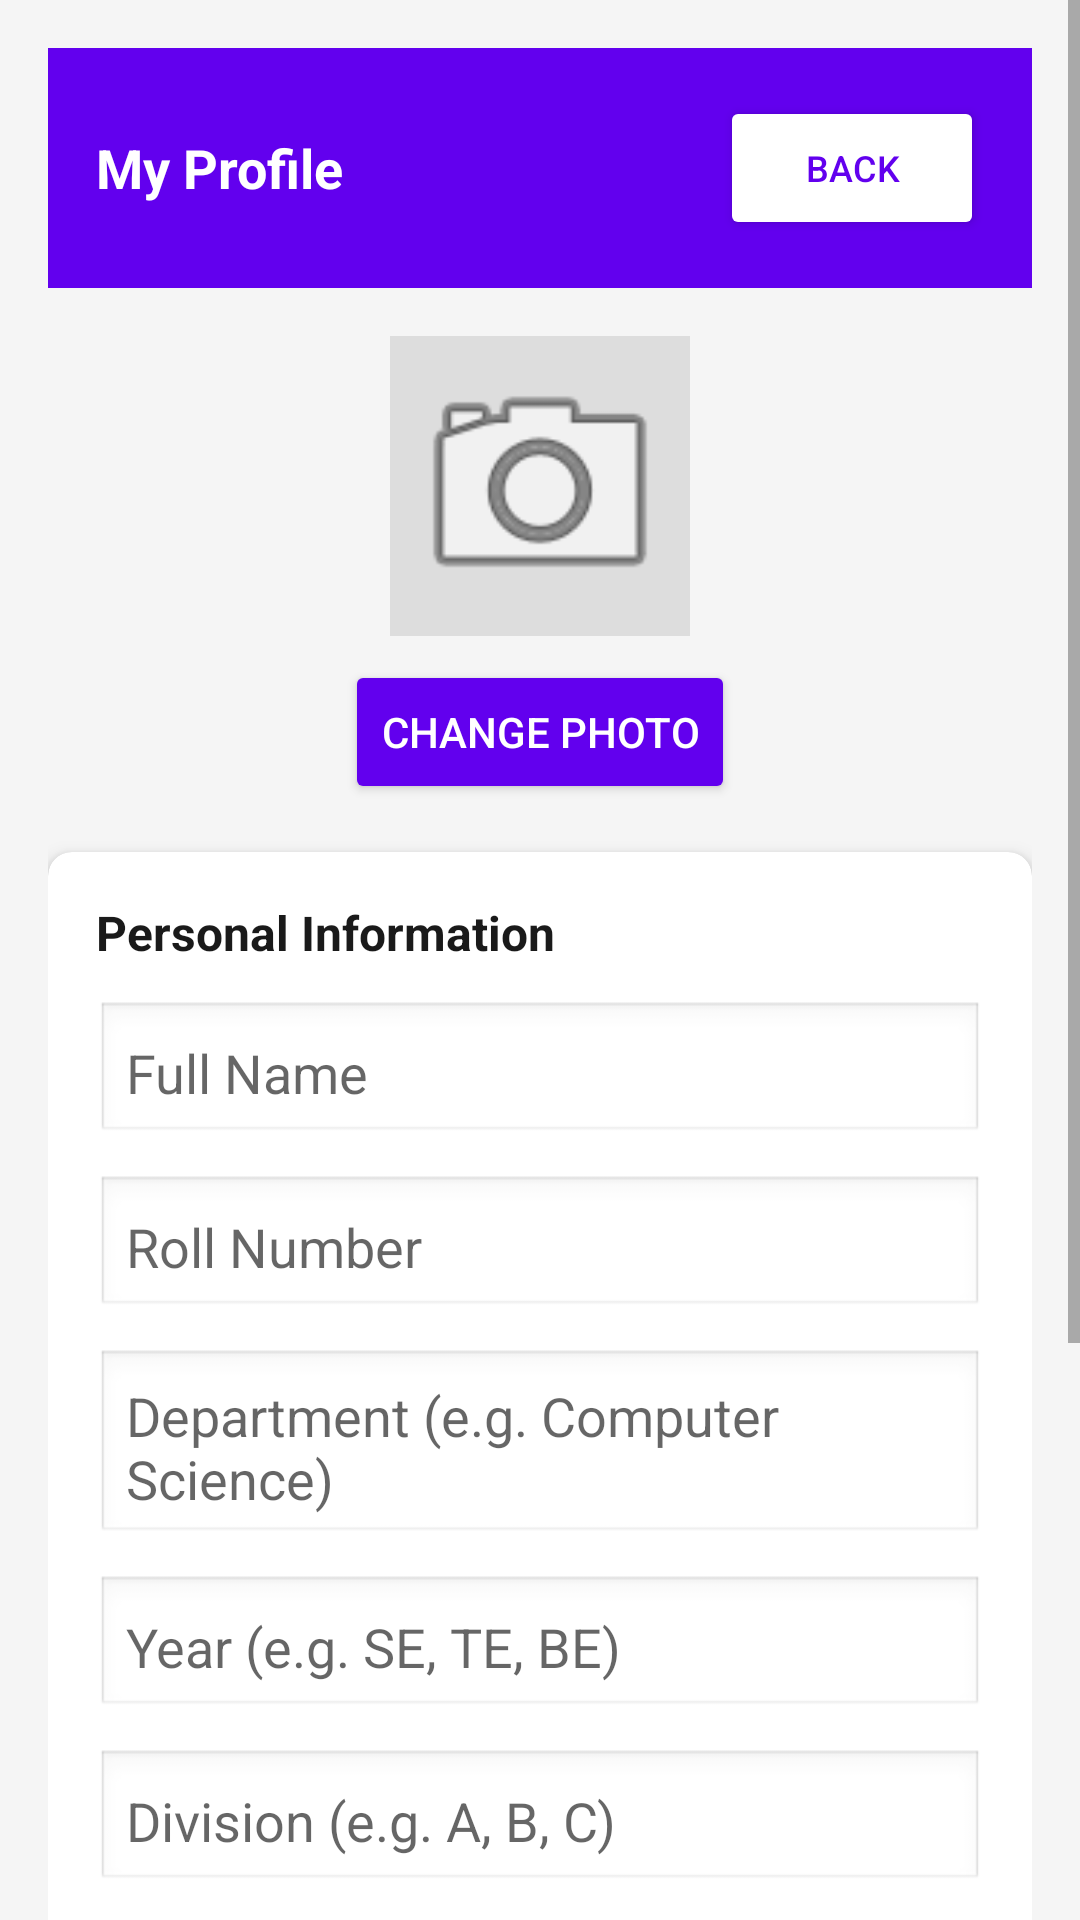

Screen size 1080w x 1920h. Icon name, then its box in pixels as (x1, y1, x2, y2):
camera: (390, 336, 690, 636)
